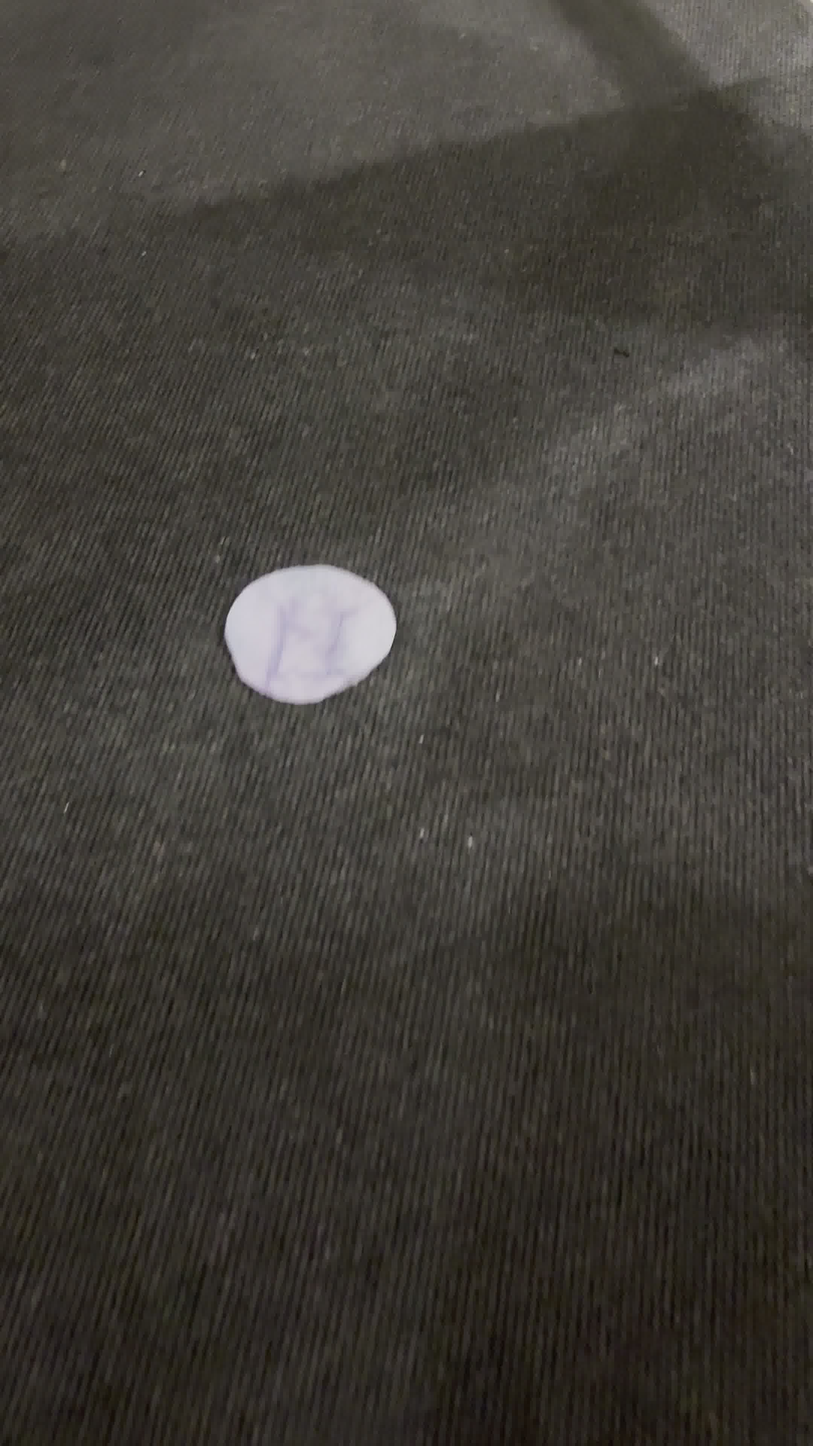Target: (224, 565, 396, 705)
